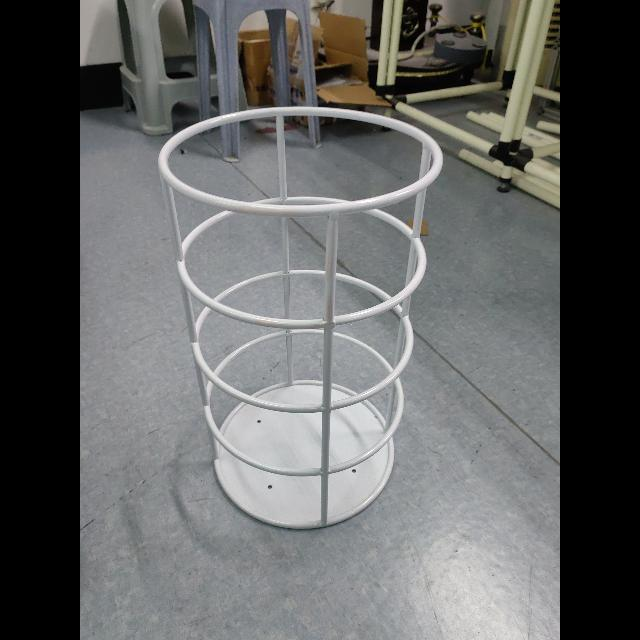S: (156, 102, 448, 536)
